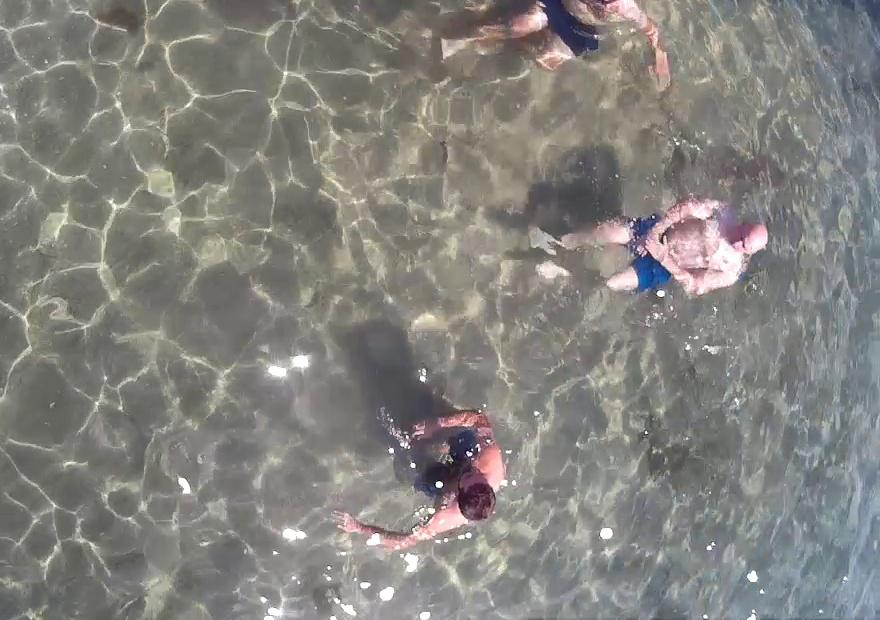swimmer: (539, 171, 772, 316), (334, 382, 506, 562), (450, 0, 666, 105)
